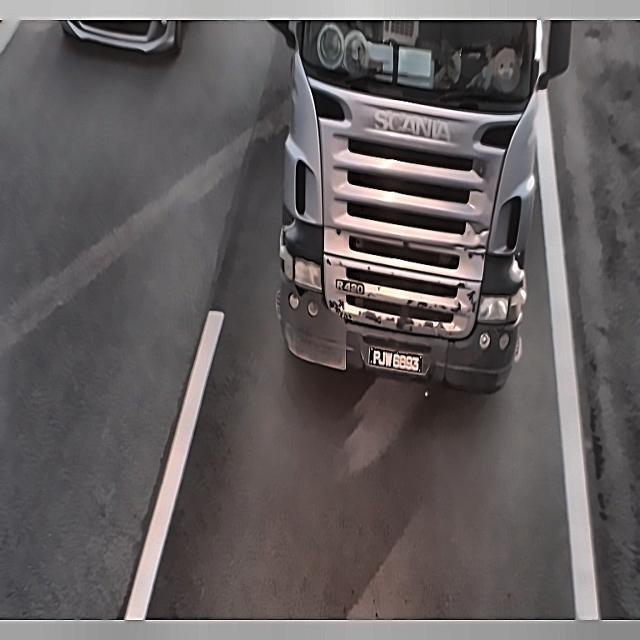car: (356, 331, 431, 388)
